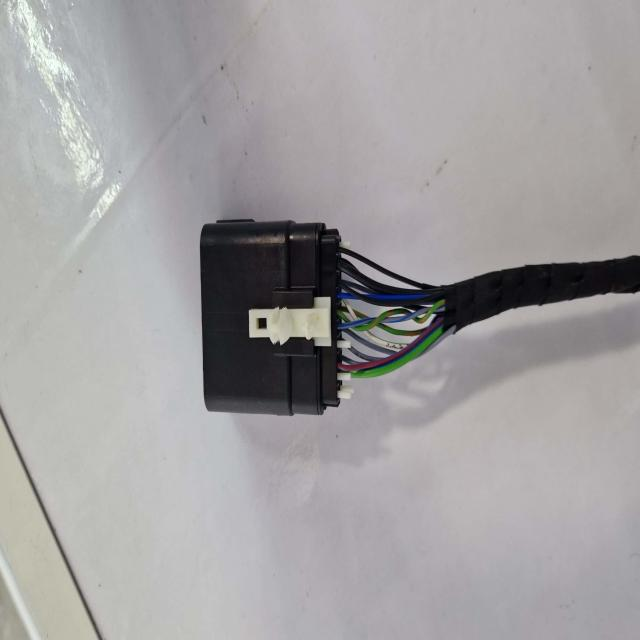Connector: (200, 220, 351, 415)
Gape: (339, 235, 449, 392)
MHEV_N11_Cable: (481, 287, 482, 289)
